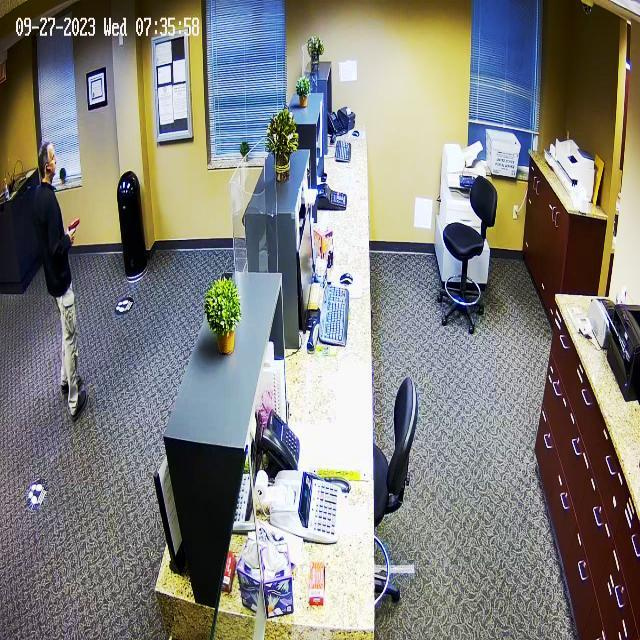Gun: (69, 206, 96, 249)
